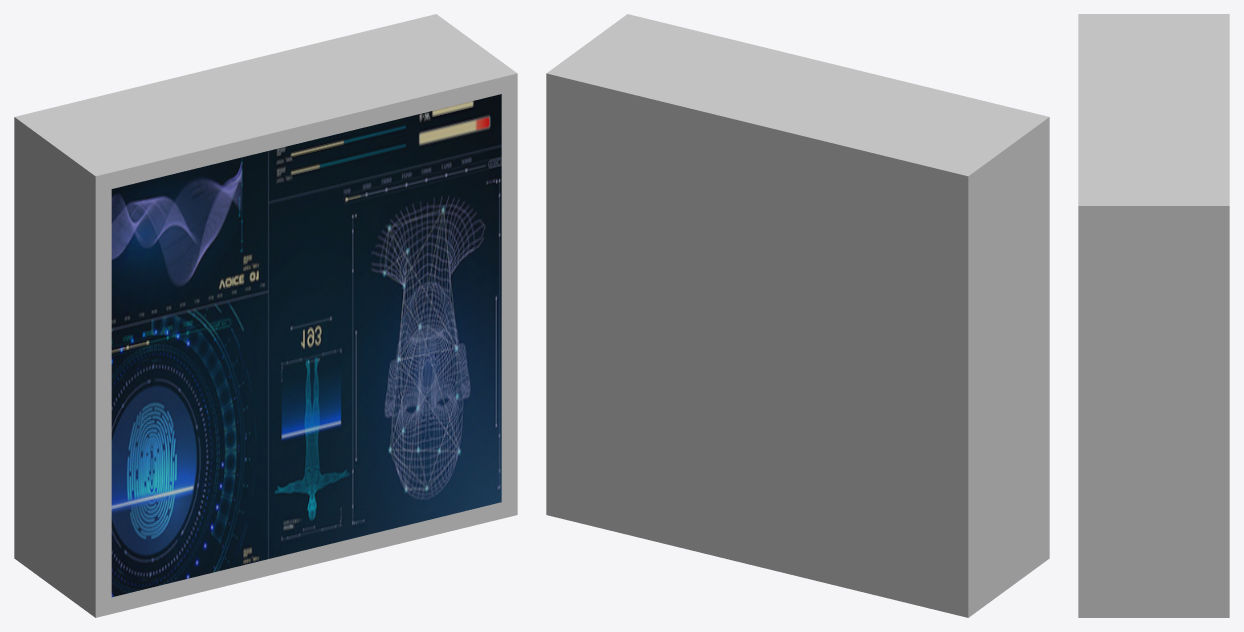
The picture shows the model from 3 angles, left to right: view 1: azimuth 30°, elevation 25°; view 2: azimuth 150°, elevation 25°; view 3: azimuth 270°, elevation 25°; orthographic projection. The views are drawn at different scales.
Parts seen in each view (by area): view 1: sil_box; view 2: sil_box; view 3: sil_box.
Part boxes in pixels (x1,y1,x2,y2): sil_box: (14, 14, 517, 617); sil_box: (546, 14, 1049, 617); sil_box: (1078, 14, 1229, 617).
Bounding box in the file's own units: 46.94 × 46.94 × 15.65.
